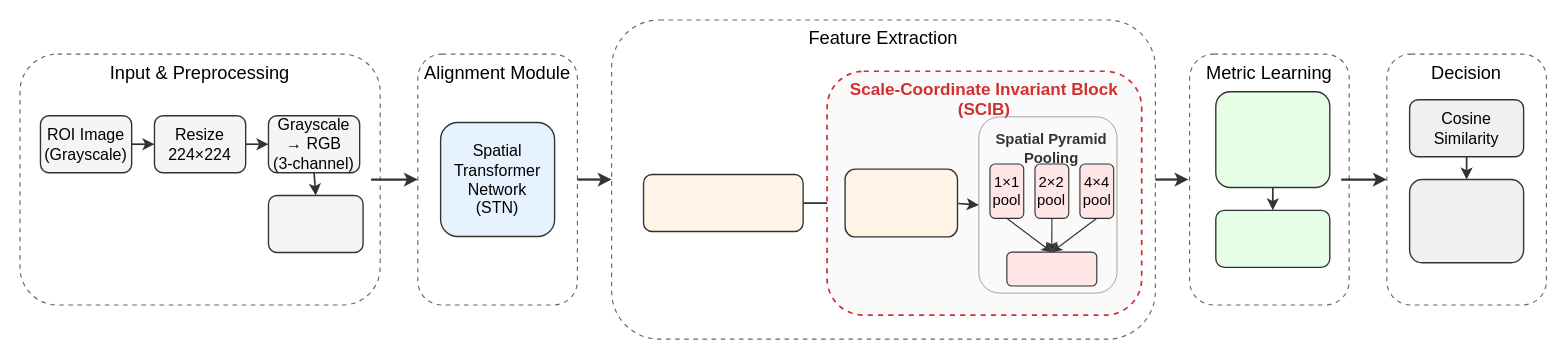
This 1566x359 diagram has some shape labels left out. The centre of each missing label's shape, as x and y in pixels:
Concat: the point at 1051,268
Coordinate Attention: the point at 901,202
Embedding Head (Fully Connected) 1024-d: the point at 1272,139
ImageNet Normalization: the point at 315,223
L2 Normalization: the point at 1272,238
Modified MobileNetV3-Small Backbone: the point at 722,202
Threshold Decision (Open-set Verification): the point at 1466,220
